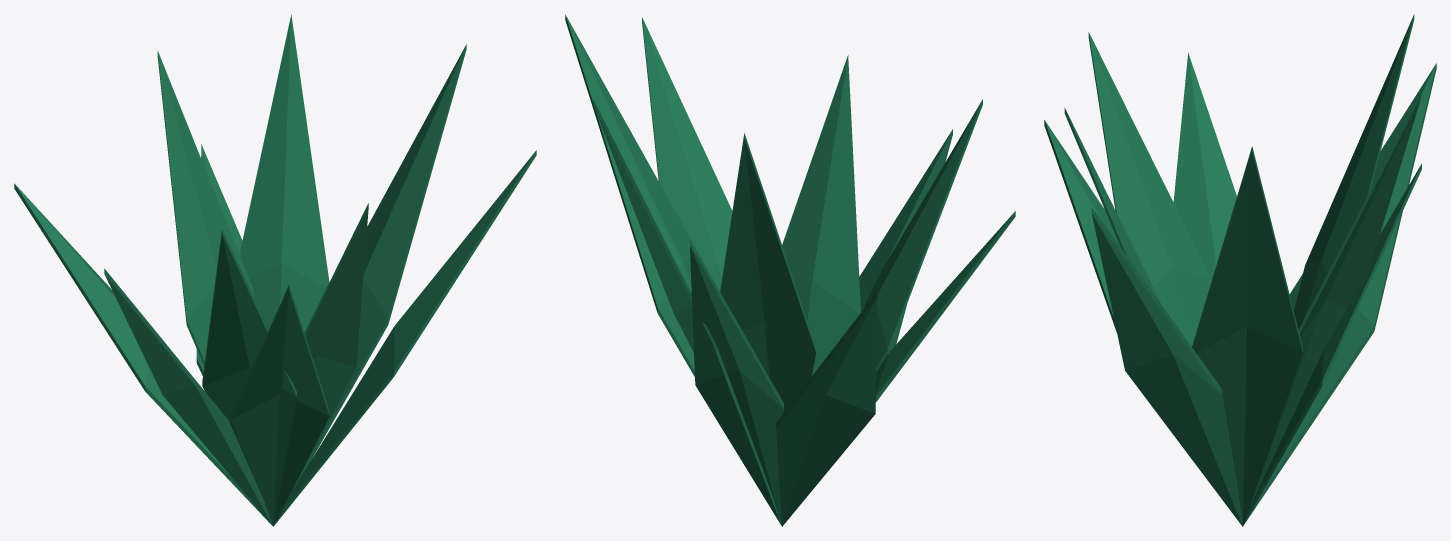
3 views of the same model, side by side, from view 1: azimuth 30°, elevation 25°; view 2: azimuth 150°, elevation 25°; view 3: azimuth 270°, elevation 25° (orthographic). The views are drawn at different scales.
Parts seen in each view (by area): view 1: 完整灌木_5.001; view 2: 完整灌木_5.001; view 3: 完整灌木_5.001.
Boxes of the visible parts, x1,y1,x2,y2 form: 完整灌木_5.001: [14, 15, 536, 526]; 完整灌木_5.001: [565, 14, 1015, 526]; 完整灌木_5.001: [1044, 14, 1436, 526].
Bounding box in the file's own units: 0.2956 × 0.3122 × 0.2261.
